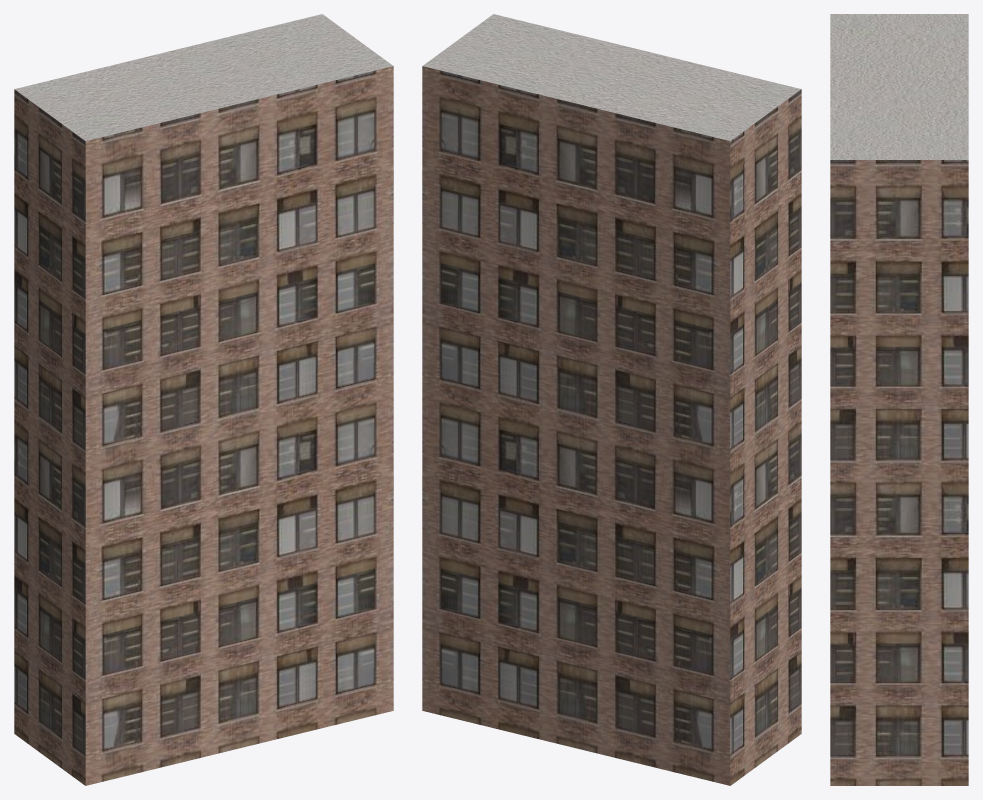
File: building_04.glb
3 renders of one model, left to right at view 1: azimuth 30°, elevation 25°; view 2: azimuth 150°, elevation 25°; view 3: azimuth 270°, elevation 25°, orthographic. The views are drawn at different scales.
Visible parts, largest first — view 1: building_003; view 2: building_003; view 3: building_003.
Part boxes in pixels (bbox=[...]): building_003: bbox=[14, 14, 393, 785]; building_003: bbox=[422, 14, 801, 785]; building_003: bbox=[830, 14, 968, 785].
Size of the model in its own units: 106 by 211 by 42.21.
2 materials, 2 textured.
